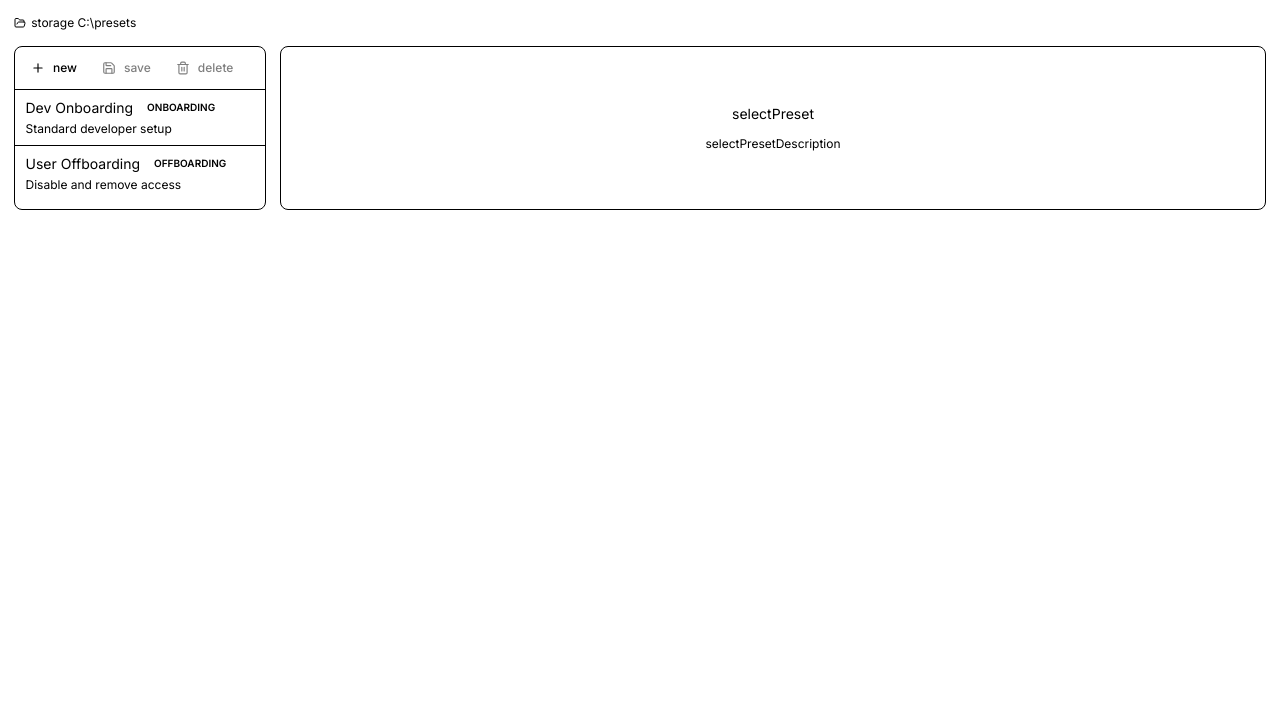
Test: PresetManagement › clicking a preset shows the editor form
expect the element with test id "preset-management" is shown: met, box [14,46,1266,210]
Click the button with test id "preset-item-0": (140, 118) [15,90,265,146]
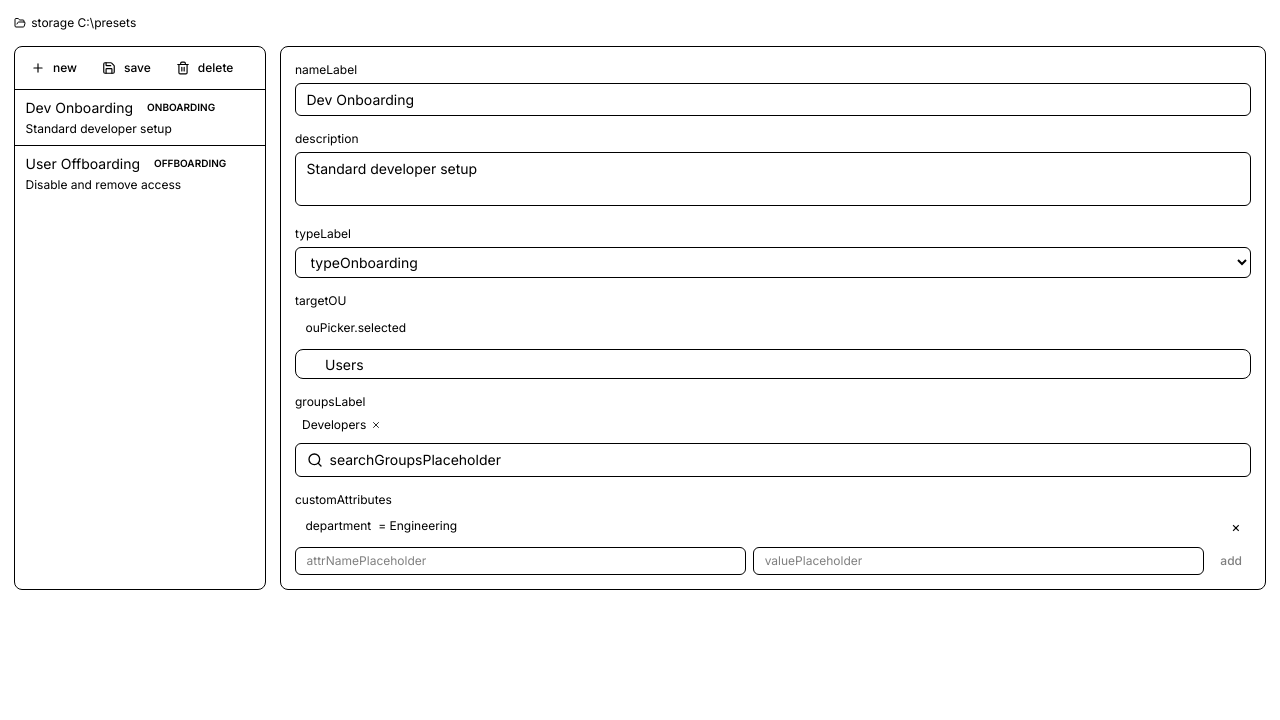
expect the element with test id "preset-editor-form" is shown: met, box [295,61,1251,575]
expect the field with test id "preset-name-input" holds "Dev Onboarding": met, box [295,82,1251,116]
